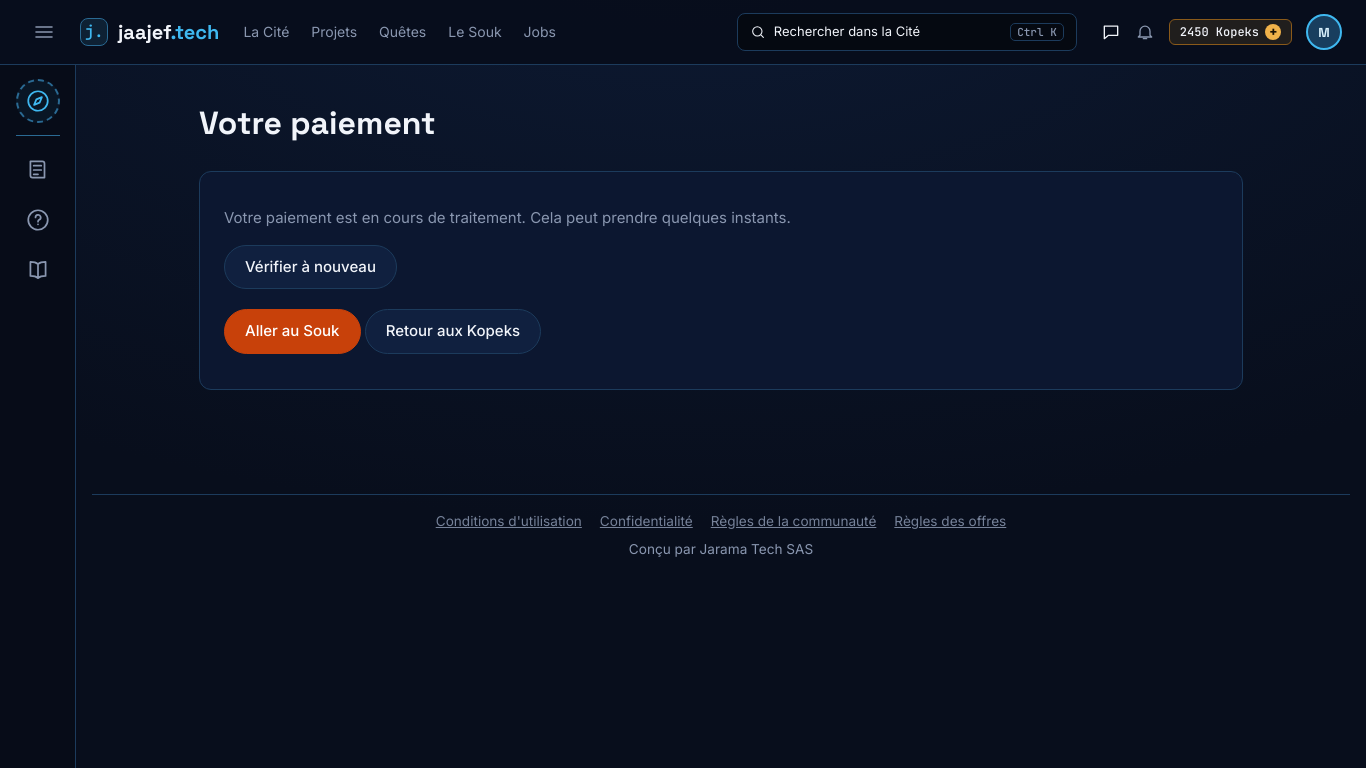
it: Return from the payment page › offers to check again while the payment is pending
This screenshot has width=1366, height=768.
Click the button "Vérifier à nouveau". click: (310, 267)
box: [224,244,397,289]
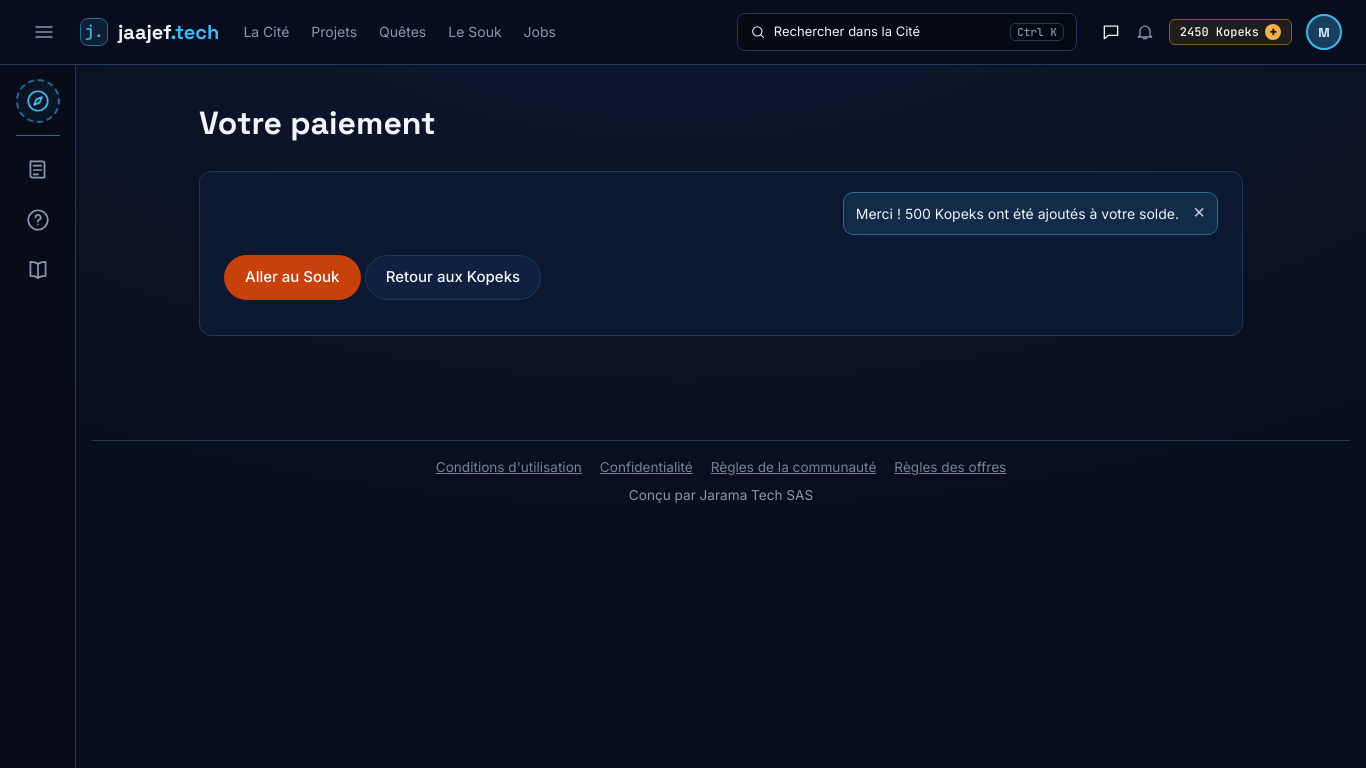
Expected: the message shows "500 Kopeks", [856,205,1179,222]
